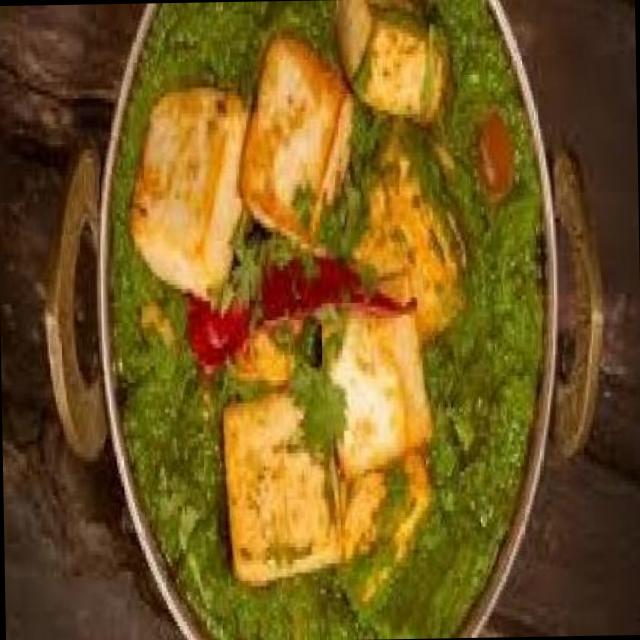palak_paneer: (103, 0, 548, 640)
